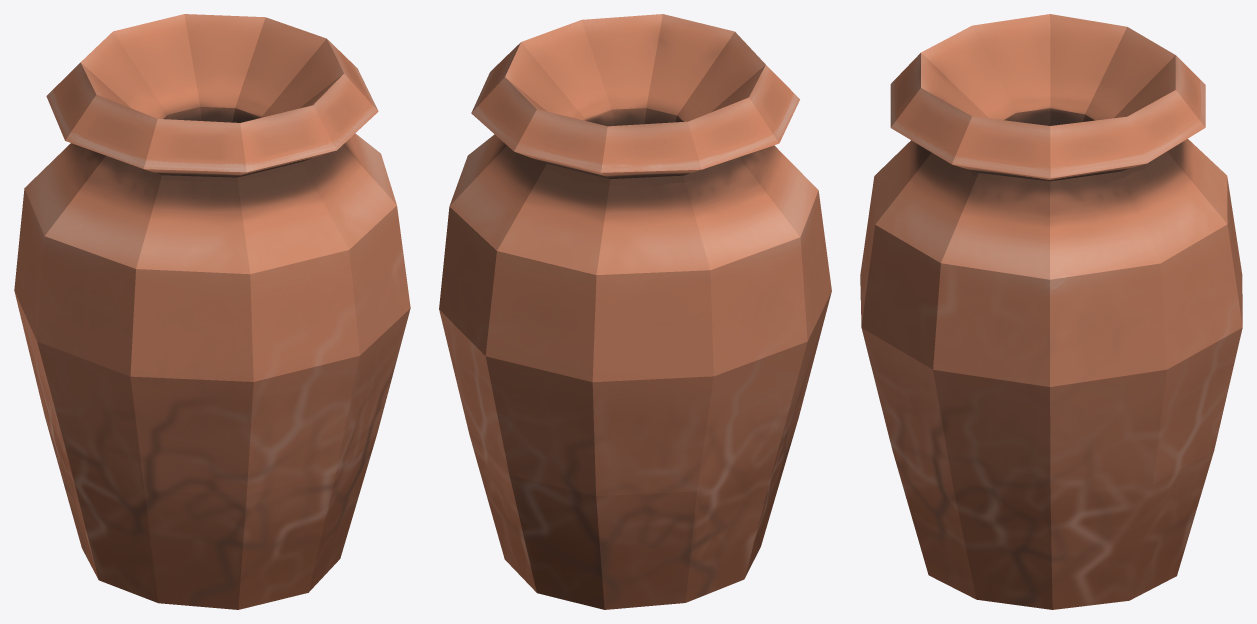
The model's file is Level2-ForbiddenTemple-Vessel.FBX.
The picture shows the model from 3 angles, left to right: view 1: azimuth 30°, elevation 25°; view 2: azimuth 150°, elevation 25°; view 3: azimuth 270°, elevation 25°; orthographic projection.
Visible parts, largest first — view 1: Vessel; view 2: Vessel; view 3: Vessel.
Boxes of the visible parts, left/top/right/bottom form: Vessel: left=14, top=14, right=410, bottom=609; Vessel: left=439, top=14, right=831, bottom=609; Vessel: left=860, top=14, right=1242, bottom=609.
Size of the model in its own units: 84.06 by 113 by 79.16.
